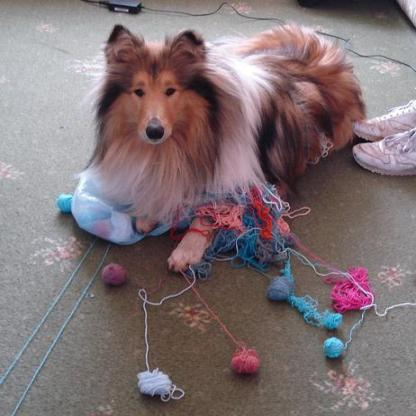collie: (80, 18, 376, 275)
